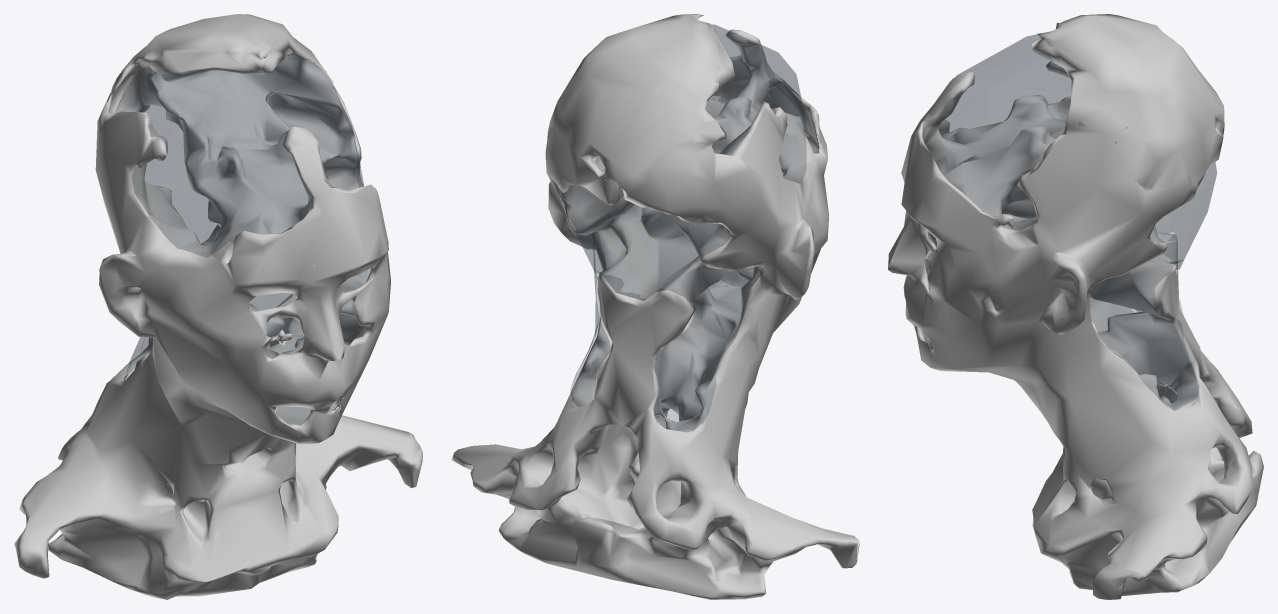
The picture shows the model from 3 angles, left to right: view 1: azimuth 30°, elevation 25°; view 2: azimuth 150°, elevation 25°; view 3: azimuth 270°, elevation 25°; orthographic projection. The views are drawn at different scales.
Visible parts, largest first — view 1: firstPerson1, faceGlass1; view 2: firstPerson1, faceGlass1; view 3: firstPerson1, faceGlass1.
Boxes of the visible parts, bbox=[...] form: firstPerson1: bbox=[14, 14, 422, 599]; faceGlass1: bbox=[115, 55, 370, 423]; firstPerson1: bbox=[451, 14, 859, 599]; faceGlass1: bbox=[561, 24, 809, 431]; firstPerson1: bbox=[888, 14, 1263, 599]; faceGlass1: bbox=[923, 34, 1216, 410].
Size of the model in its own units: 20.85 by 27.26 by 17.32.
